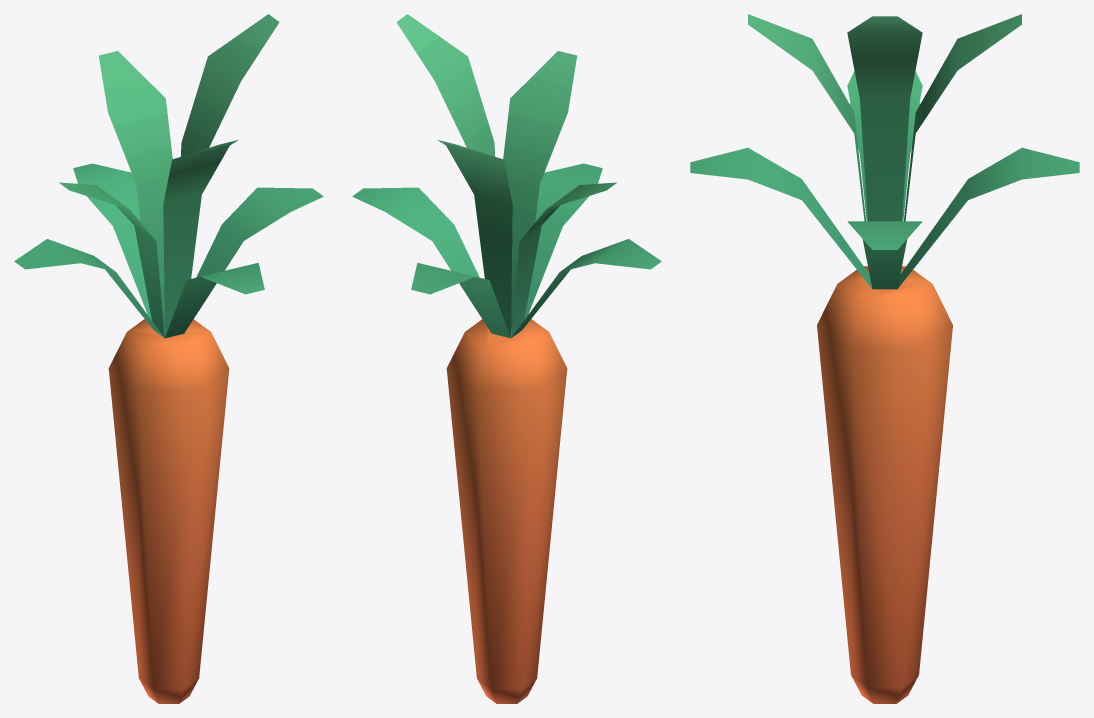
The model's file is carrot.25badef574.glb.
The picture shows the model from 3 angles, left to right: view 1: azimuth 30°, elevation 25°; view 2: azimuth 150°, elevation 25°; view 3: azimuth 270°, elevation 25°; orthographic projection. The views are drawn at different scales.
Parts seen in each view (by area): view 1: carrot; view 2: carrot; view 3: carrot.
Part boxes in pixels (x1,y1,x2,y2): carrot: (14,14,323,703); carrot: (352,14,661,703); carrot: (690,14,1079,703).
Bounding box in the file's own units: 0.3431 × 0.7163 × 0.3431.
1 material, 1 textured.
